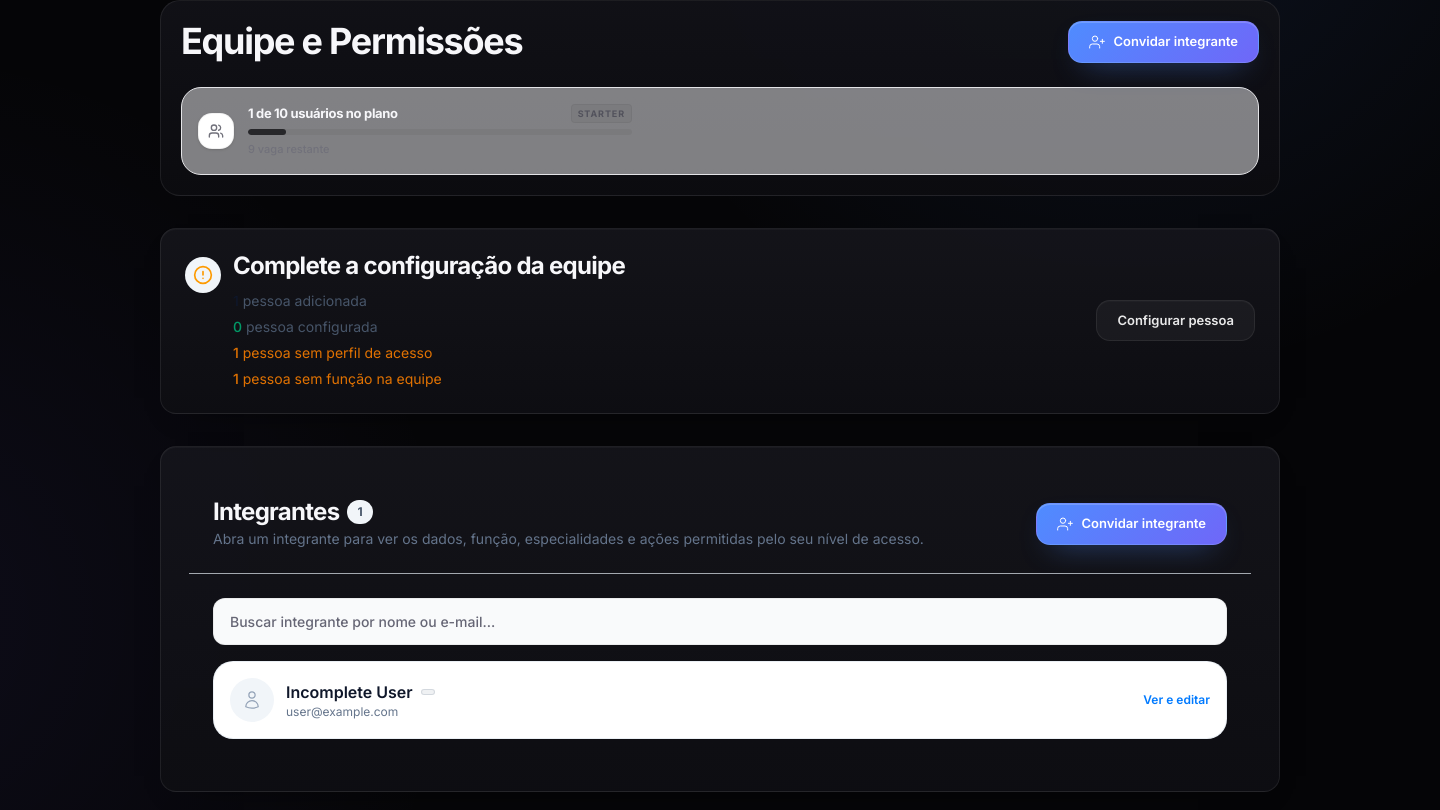
Scenario: UsersPage Integration ExistingMemberSetup › 2. clicar na ação abre o guia real
Expected: the heading "Equipe e Permissões" is shown, [181,22,522,62]
Step 1. Click the button "Configurar pessoa" → (1176, 321), box [1096,300,1255,341]
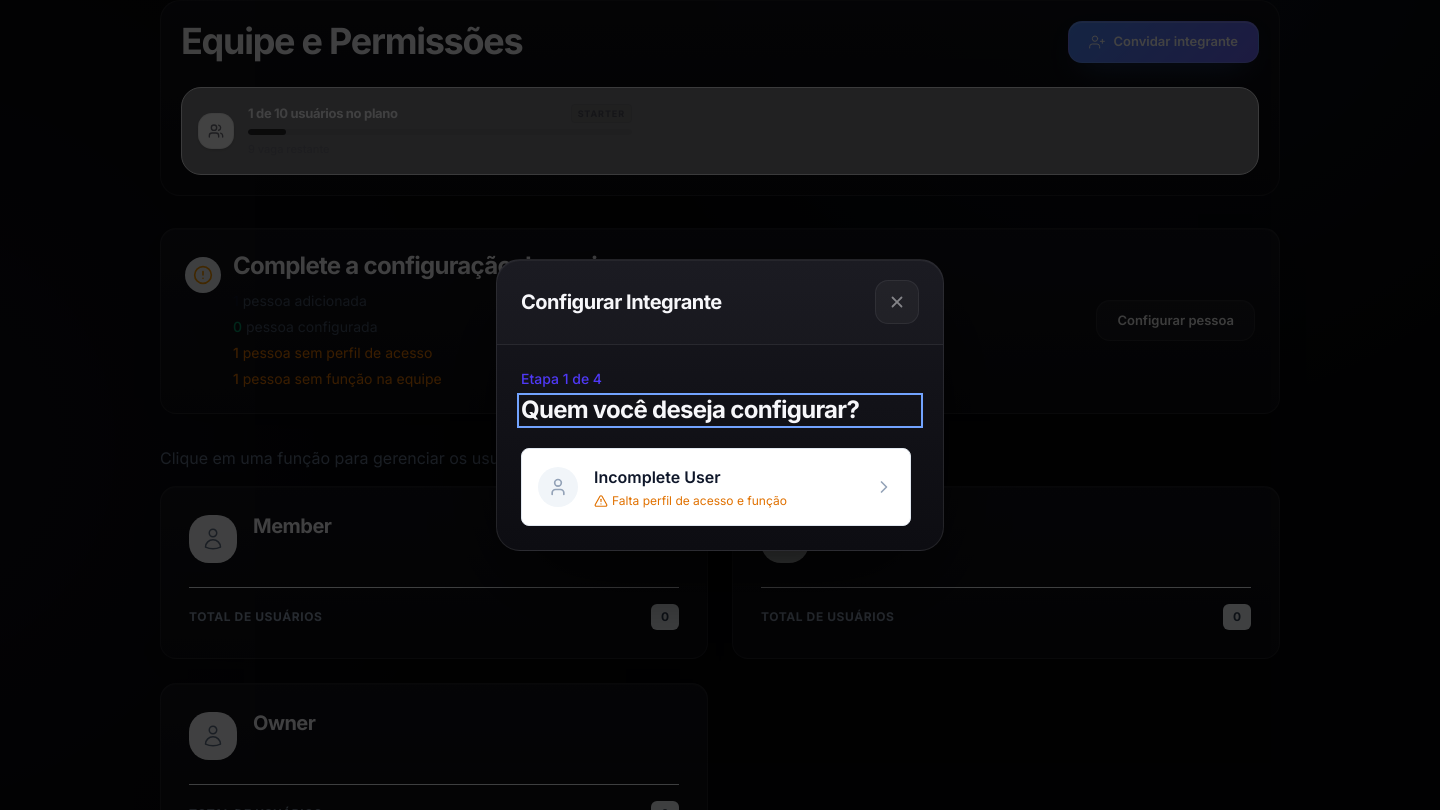
Expected: the heading "Quem você deseja configurar?" is shown, [521,395,859,424]
